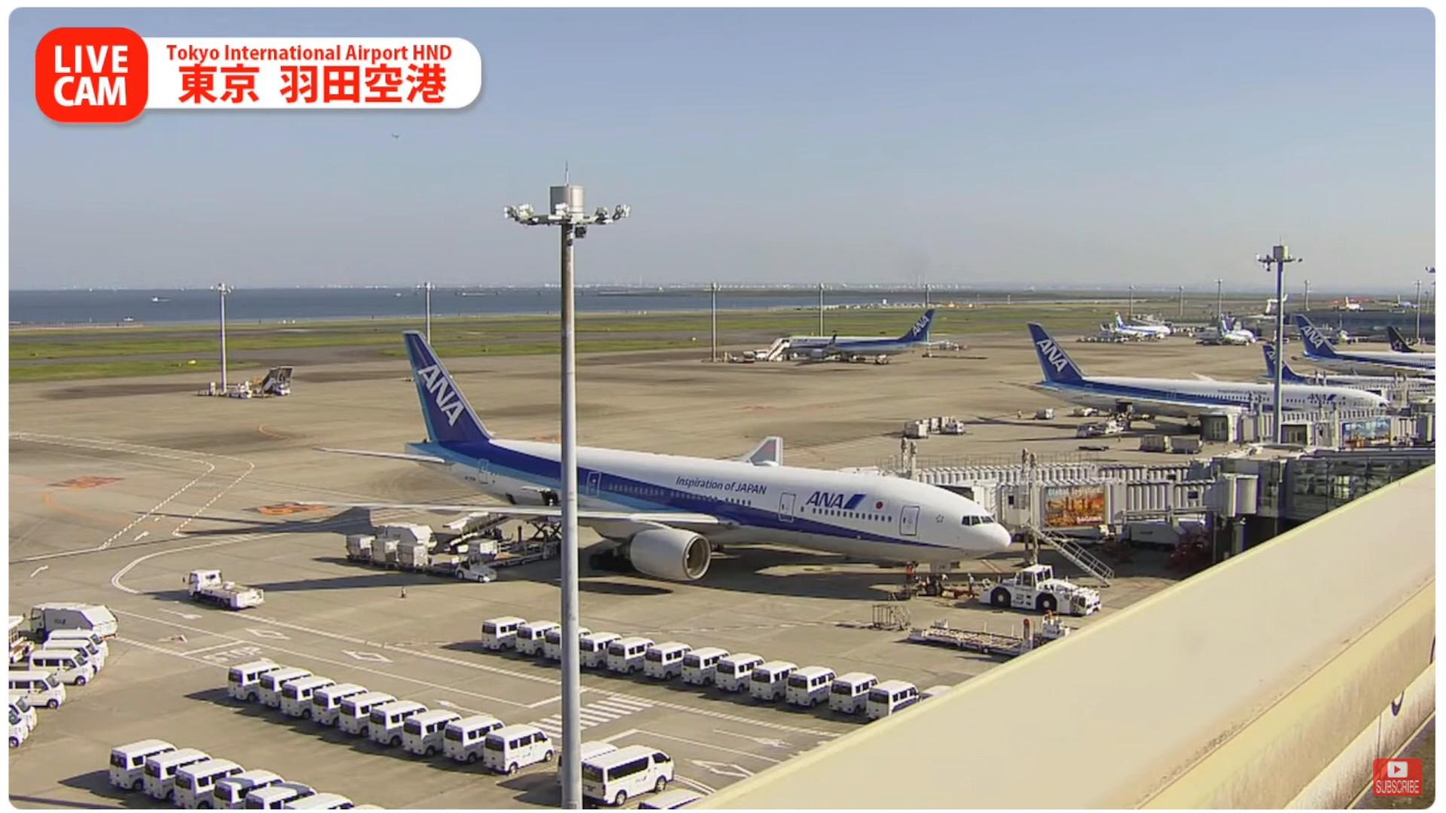APS: (971, 565, 1107, 618)
Aerobridge: (880, 463, 1198, 520), (990, 479, 1258, 539)
Airplane: (308, 328, 1018, 599)
Baggage truck: (376, 521, 435, 544)
Dolly: (316, 533, 460, 575)
JCPL: (904, 613, 1077, 658), (480, 504, 562, 572)
Skyloader: (444, 505, 507, 558)
Tractor: (457, 554, 498, 585)
Window: (1281, 462, 1437, 524)
